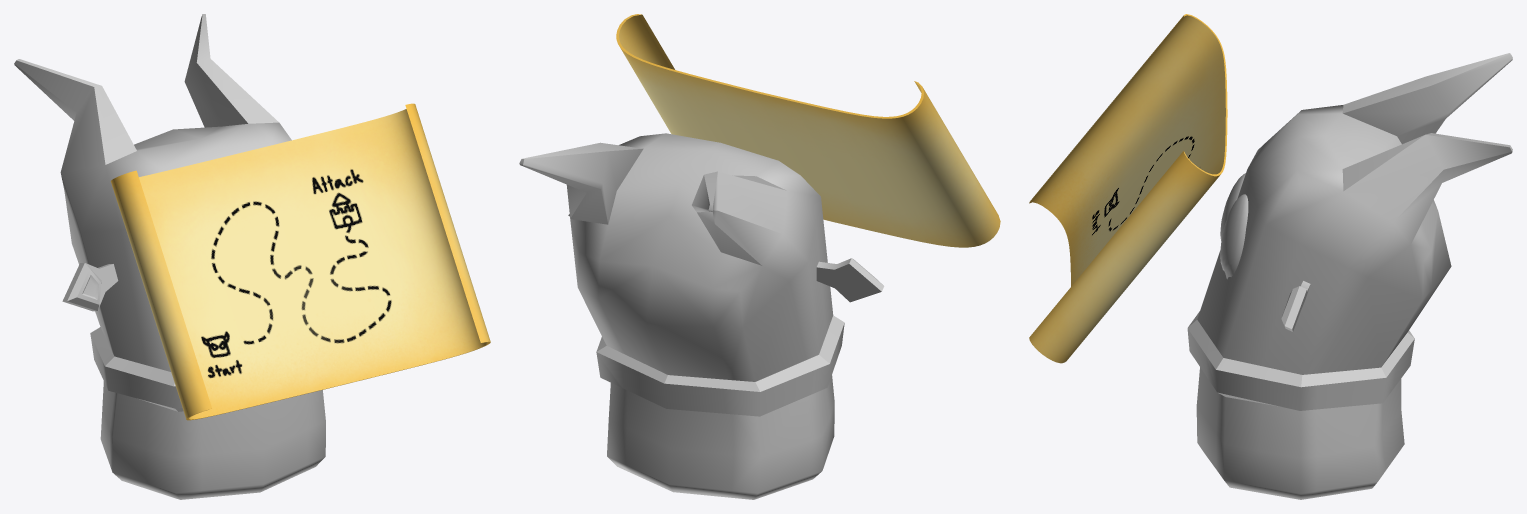
Rendered from GoblinGiveMapToBapho.fbx.
3 views of the same model, side by side, from view 1: azimuth 30°, elevation 25°; view 2: azimuth 150°, elevation 25°; view 3: azimuth 270°, elevation 25° (orthographic). The views are drawn at different scales.
Parts seen in each view (by area): view 1: Map, Goblin; view 2: Goblin, Map; view 3: Goblin, Map.
Boxes of the visible parts, box(x1,y1,x2,y2) form: Map: box(110, 103, 490, 420); Goblin: box(14, 14, 325, 499); Goblin: box(519, 133, 884, 499); Map: box(616, 14, 1000, 247); Goblin: box(1187, 53, 1512, 499); Map: box(1029, 14, 1227, 363).
Size of the model in its own units: 9.93 by 11.1 by 13.11.
